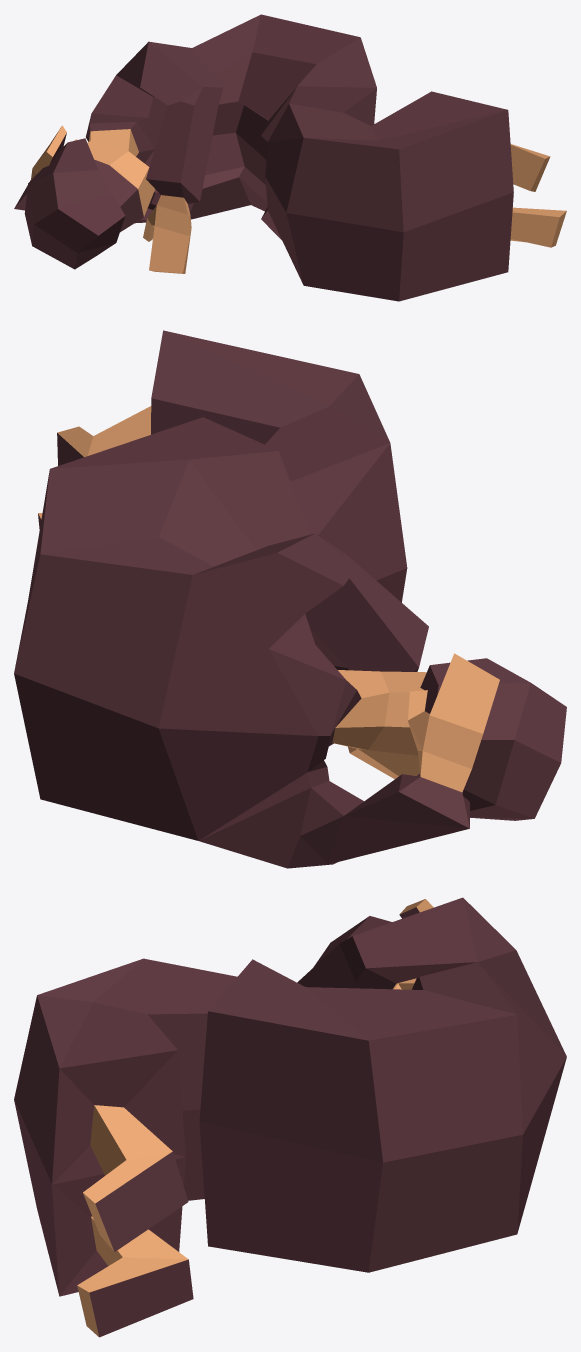
File: apocalypse-man-samurai-black-dead-b.glb
3 renders of one model, top to bottom at view 1: azimuth 30°, elevation 25°; view 2: azimuth 150°, elevation 25°; view 3: azimuth 270°, elevation 25°, orthographic. The views are drawn at different scales.
Parts seen in each view (by area): view 1: man-samurai-black-dead-b; view 2: man-samurai-black-dead-b; view 3: man-samurai-black-dead-b.
Part boxes in pixels (left/top/right/bottom): man-samurai-black-dead-b: left=14, top=14, right=566, bottom=301; man-samurai-black-dead-b: left=14, top=330, right=566, bottom=868; man-samurai-black-dead-b: left=14, top=897, right=566, bottom=1337.
Bounding box in the file's own units: 1.14 × 0.461 × 0.8946.
